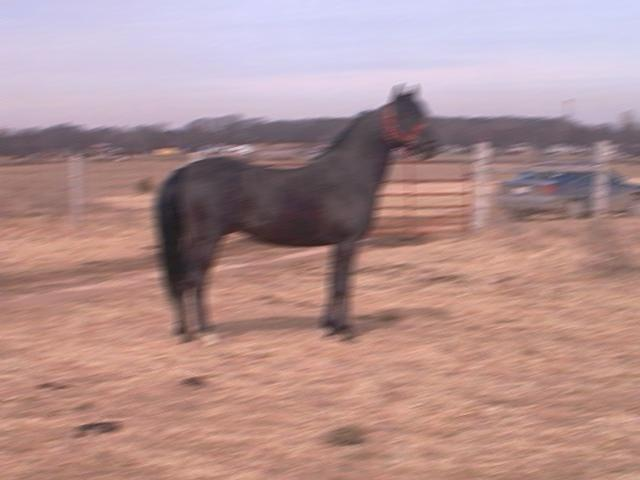horse: (152, 82, 440, 347)
